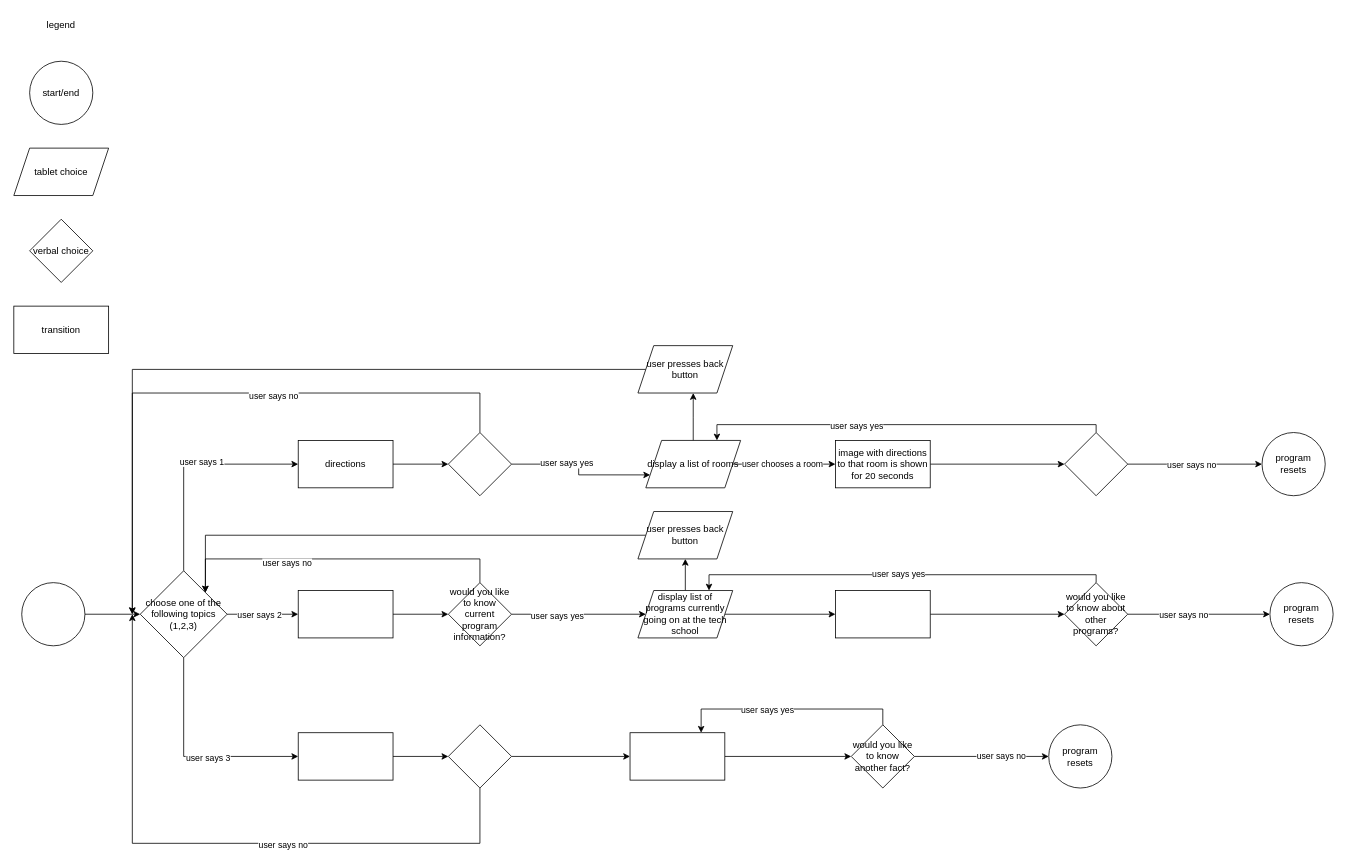
Some shapes in this 1347 by 863 pixel diagram are drawn without their labels. The shapes that lost their labels are listed below. From the top down, each one's centre as x and y in pixels, then its label:
(480,464): would you like directions to a specific room?
(1096,464): would you like more directions?
(53,614): start
(345,614): program information
(882,614): talk about the selected program (option to show images here also)
(345,756): facts/history
(480,756): would you like to know a historical fact about the tech school?
(677,756): choose and say a random fact from the list
